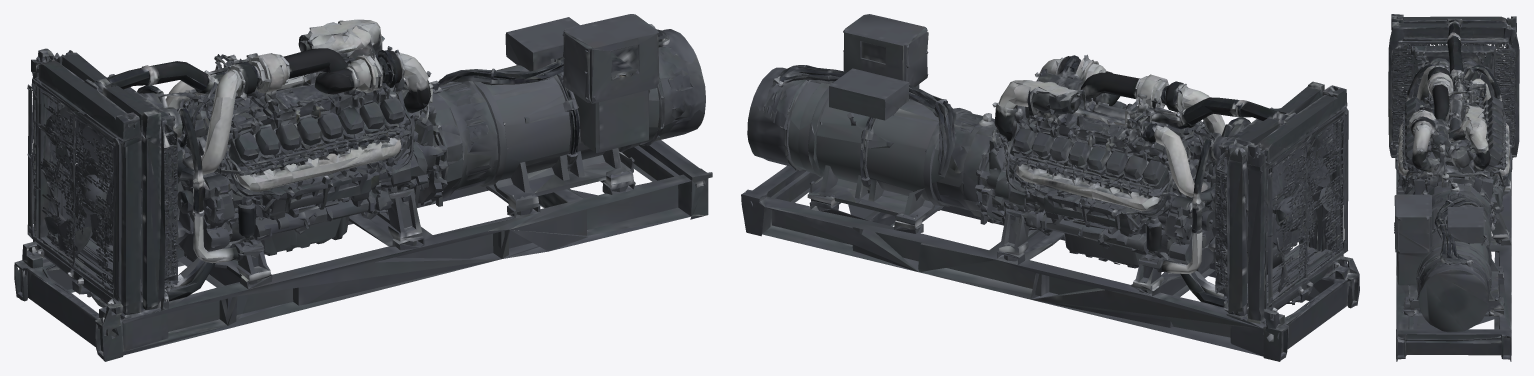
File: genset-skid.glb
3 views of the same model, side by side, from view 1: azimuth 30°, elevation 25°; view 2: azimuth 150°, elevation 25°; view 3: azimuth 270°, elevation 25° (orthographic). The views are drawn at different scales.
Parts seen in each view (by area): view 1: Mesh_0; view 2: Mesh_0; view 3: Mesh_0.
Part boxes in pixels (left/top/right/bottom): Mesh_0: left=14, top=14, right=712, bottom=361; Mesh_0: left=741, top=14, right=1359, bottom=361; Mesh_0: left=1388, top=14, right=1519, bottom=361.
Bounding box in the file's own units: 1.9 × 0.7118 × 0.5256.
Materials: 1 (1 with a texture image).
